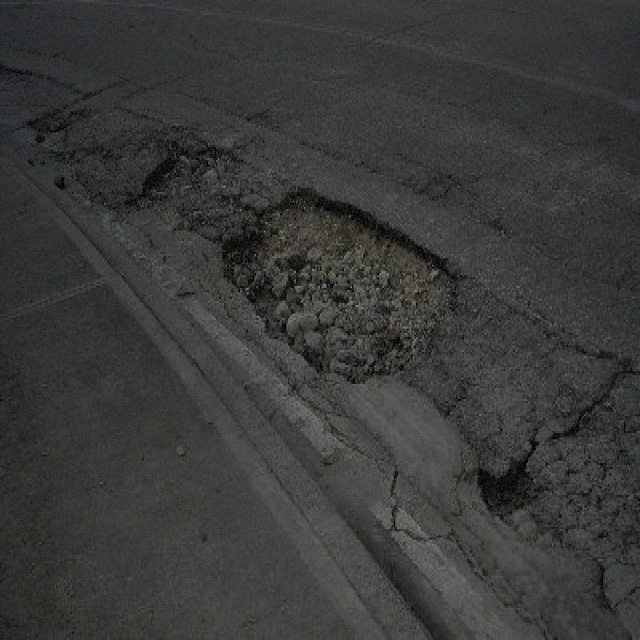pothole: (213, 177, 462, 388), (120, 136, 243, 214), (472, 454, 539, 518), (26, 104, 86, 154), (0, 58, 34, 90)
